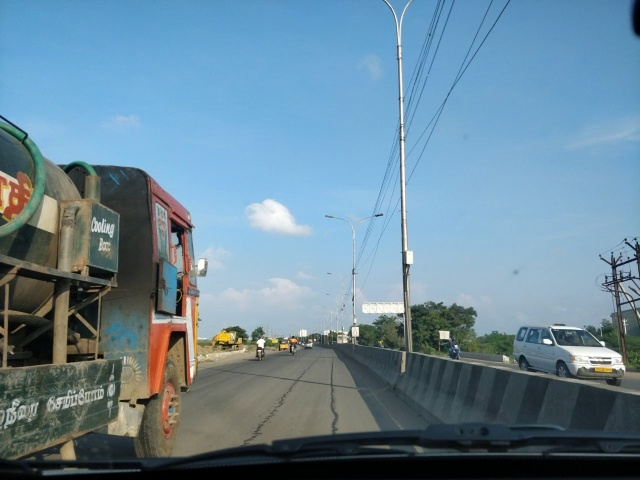auto: (276, 337, 291, 354)
car: (515, 316, 629, 391)
motorbike: (445, 330, 466, 364), (255, 335, 268, 364), (289, 335, 299, 354)
tractor: (211, 324, 247, 352)
truck: (2, 115, 203, 466)
